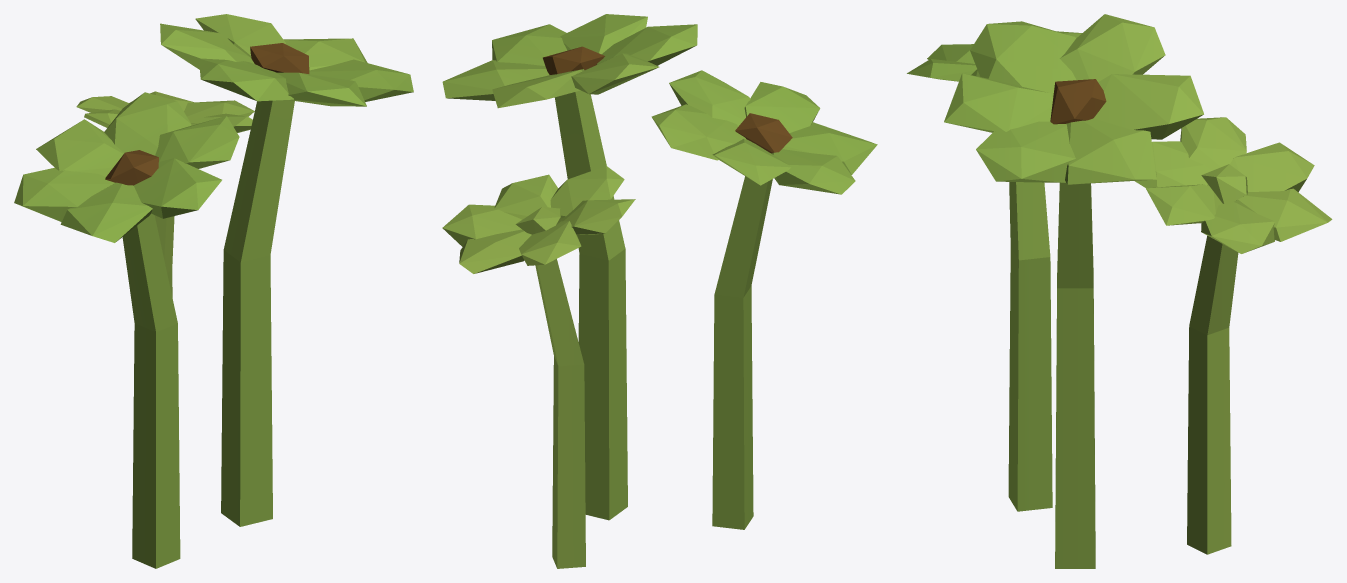
The model's file is Flower_06.fbx.
3 renders of one model, left to right at view 1: azimuth 30°, elevation 25°; view 2: azimuth 150°, elevation 25°; view 3: azimuth 270°, elevation 25°, orthographic. The views are drawn at different scales.
Parts seen in each view (by area): view 1: Flower_06; view 2: Flower_06; view 3: Flower_06.
Part boxes in pixels (x1,y1,x2,y2): Flower_06: [14, 14, 413, 568]; Flower_06: [442, 14, 877, 568]; Flower_06: [907, 14, 1332, 568].
Bounding box in the file's own units: 0.6366 × 0.7735 × 0.5832.
